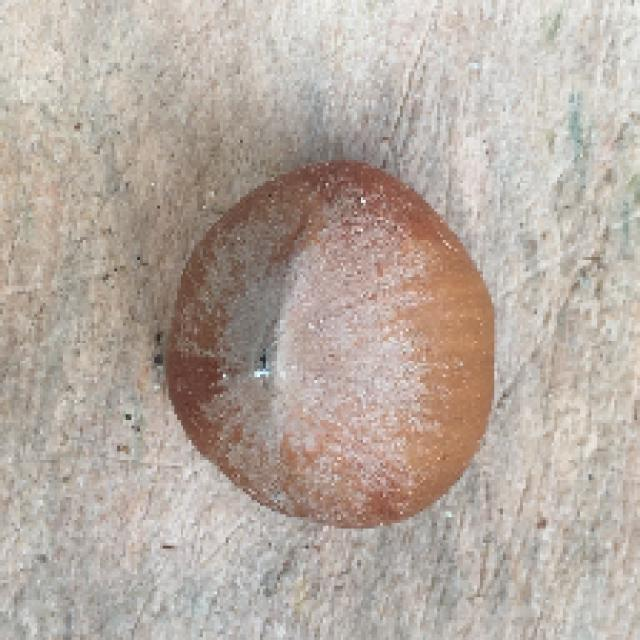QualityHazelnut: (162, 157, 499, 526)
